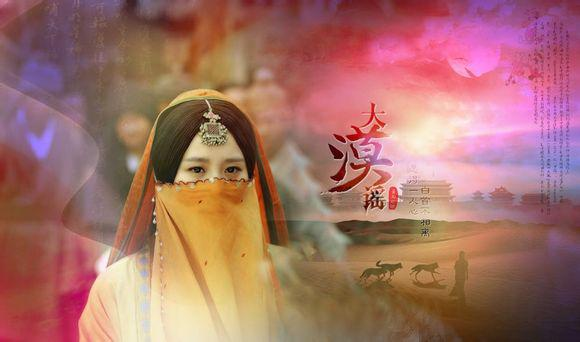OK: (181, 153, 249, 221)
